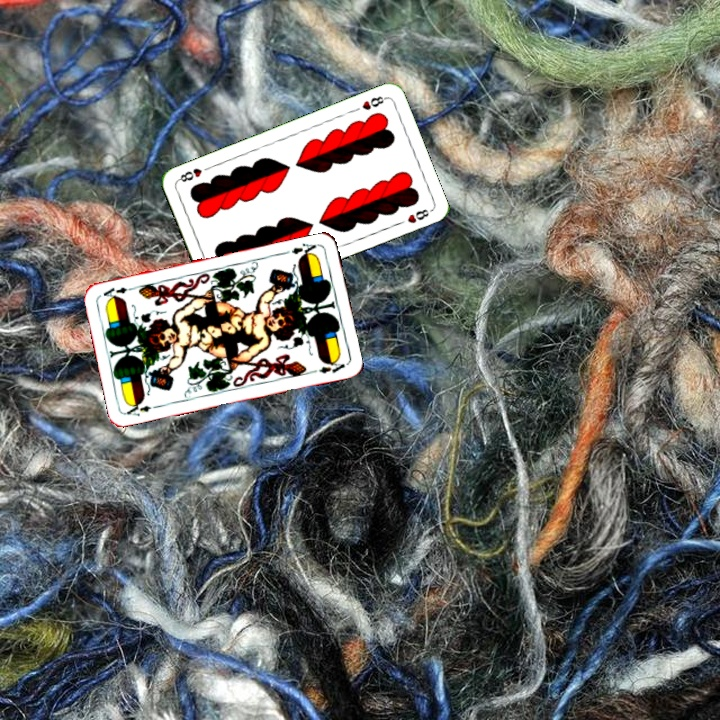EA: (281, 239, 321, 261), (122, 398, 163, 418)
H8: (358, 92, 389, 113)
